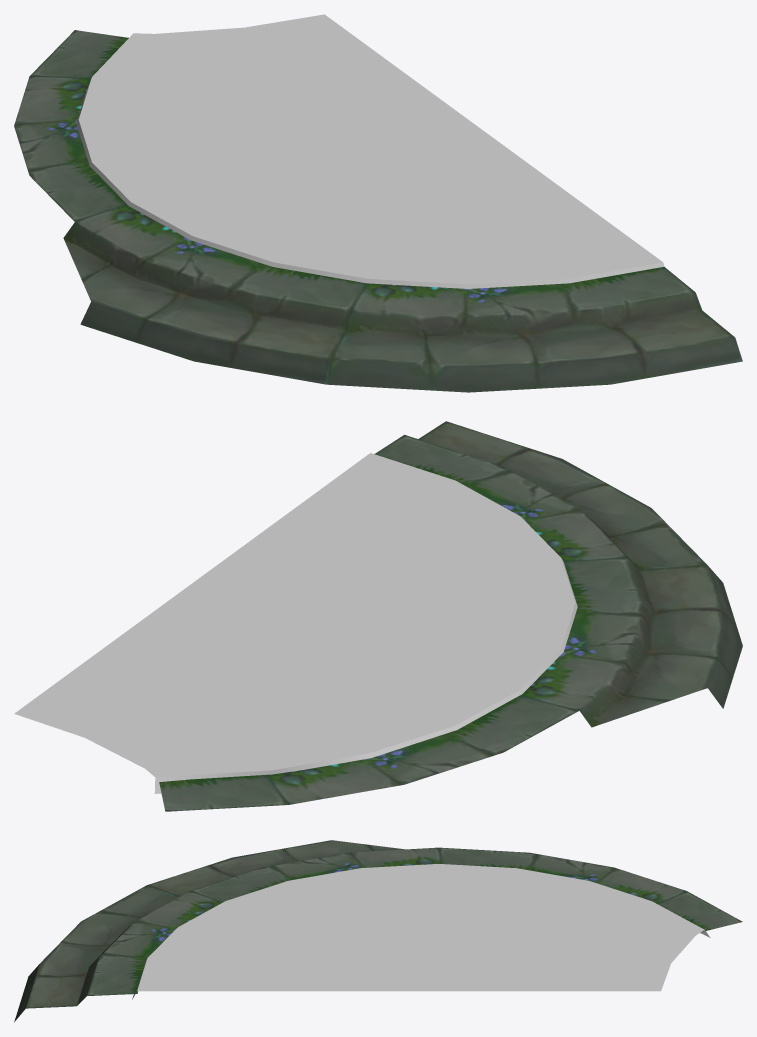
File: DLD_syuantai01.FBX
The picture shows the model from 3 angles, top to bottom: view 1: azimuth 30°, elevation 25°; view 2: azimuth 150°, elevation 25°; view 3: azimuth 270°, elevation 25°; orthographic projection. The views are drawn at different scales.
Visible parts, largest first — view 1: DLD_syuantai01_001, DLD_syuantai01_005; view 2: DLD_syuantai01_001, DLD_syuantai01_005; view 3: DLD_syuantai01_001, DLD_syuantai01_005.
Part boxes in pixels (box(x1,y1,x2,y2)): DLD_syuantai01_001: box(76, 14, 664, 288); DLD_syuantai01_005: box(14, 30, 742, 392); DLD_syuantai01_001: box(14, 453, 577, 793); DLD_syuantai01_005: box(159, 421, 742, 811); DLD_syuantai01_001: box(132, 864, 710, 999); DLD_syuantai01_005: box(14, 840, 742, 1022).
Bounding box in the file's own units: 835 × 71.08 × 1485.
